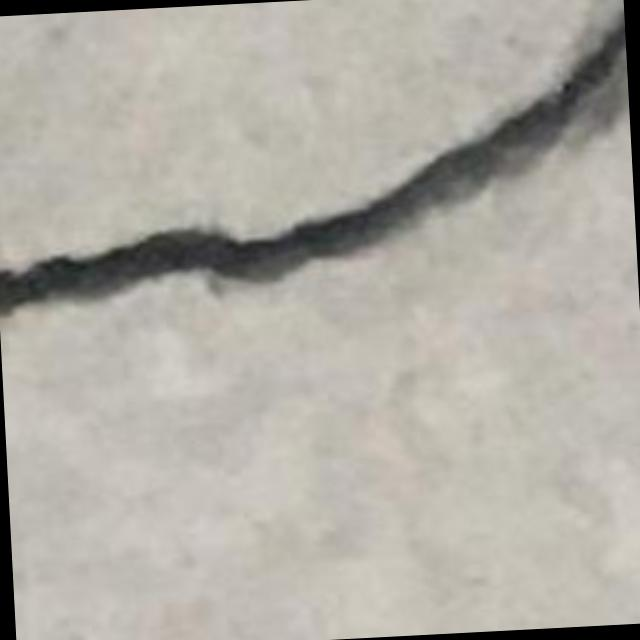crack: (0, 15, 629, 314)
